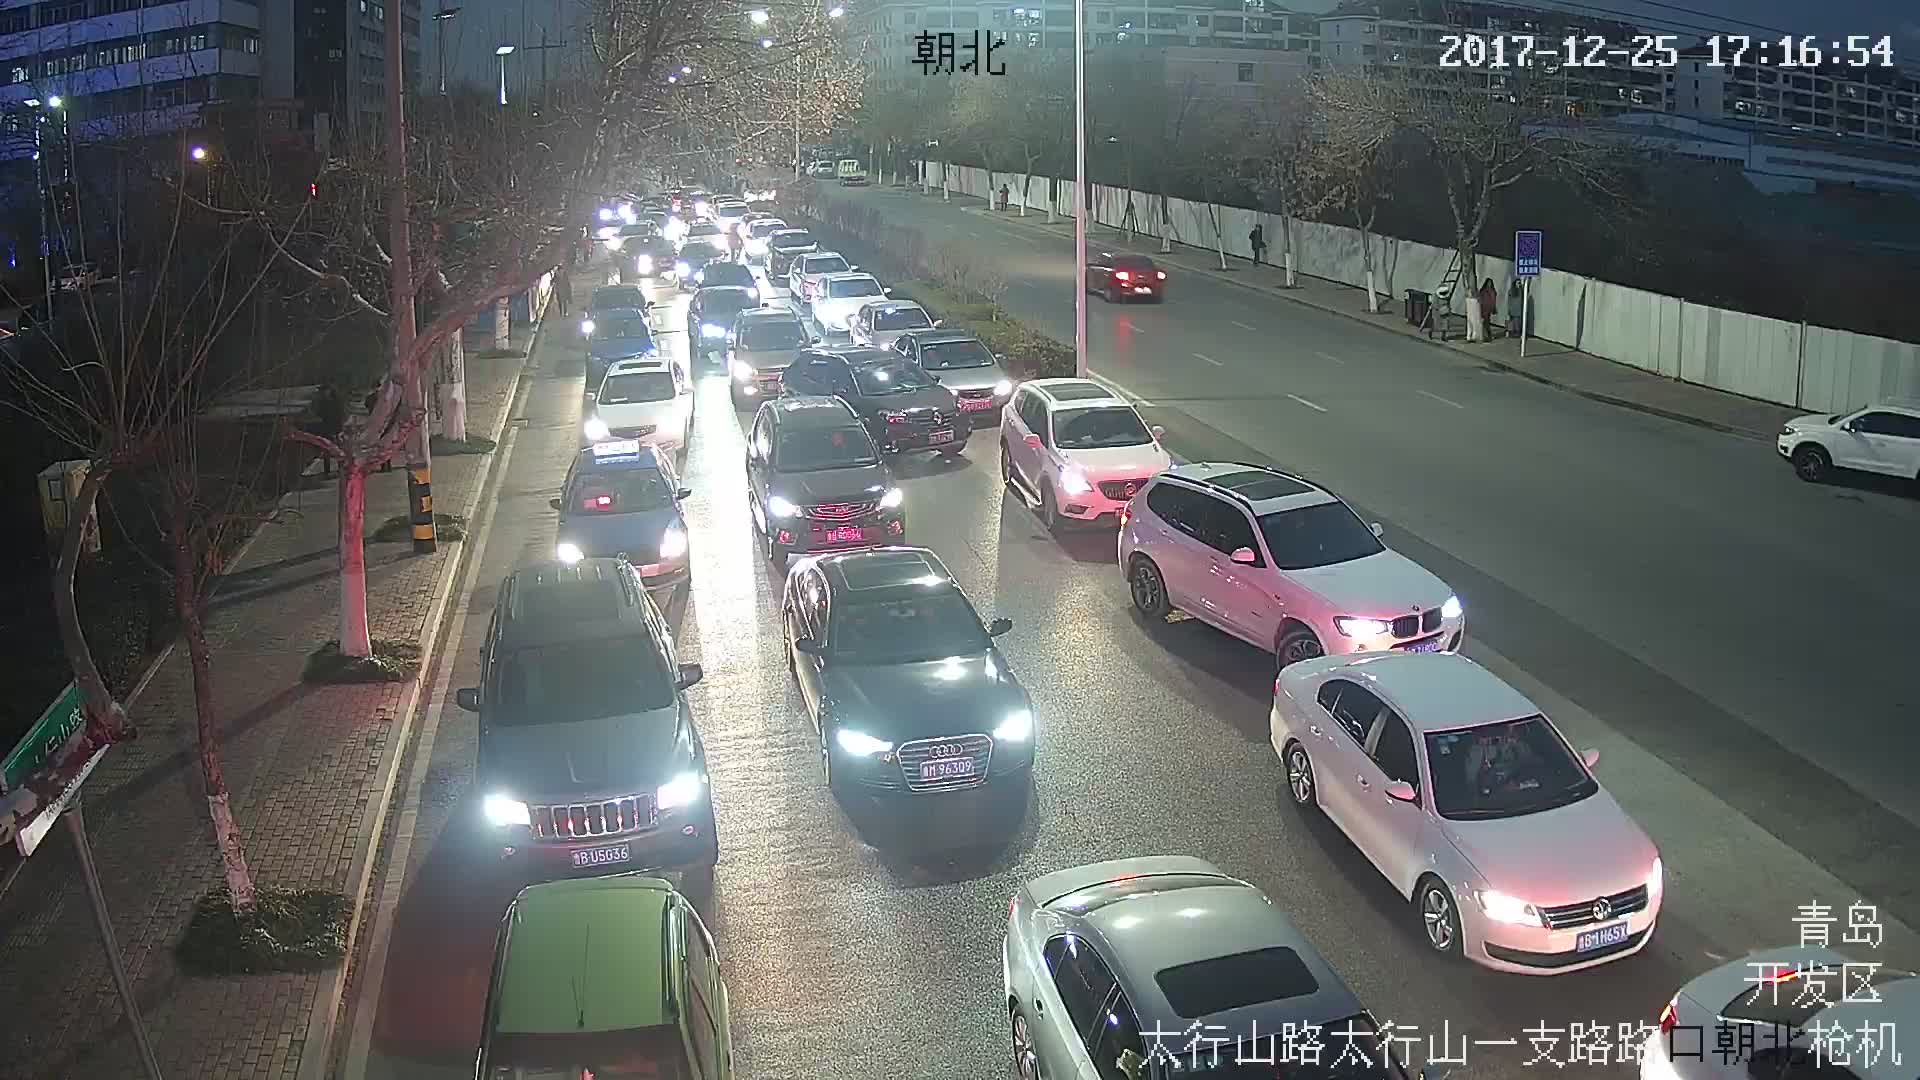car: (1267, 655, 1684, 973), (481, 566, 717, 874), (787, 548, 1037, 800), (1132, 467, 1462, 656), (755, 402, 905, 557), (998, 384, 1159, 521), (564, 448, 696, 581), (593, 359, 695, 448), (1078, 249, 1168, 303)
person: (1481, 280, 1500, 341), (1513, 277, 1531, 334), (1245, 220, 1268, 264)
